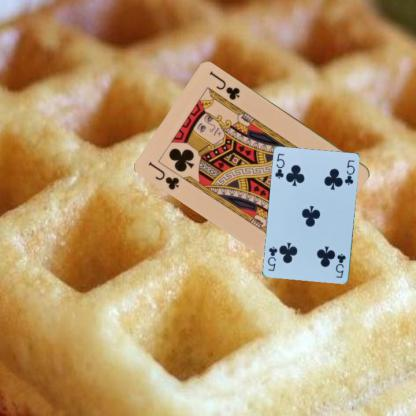5c: (334, 251, 348, 279), (273, 152, 286, 180)
Jc: (146, 158, 182, 192)
